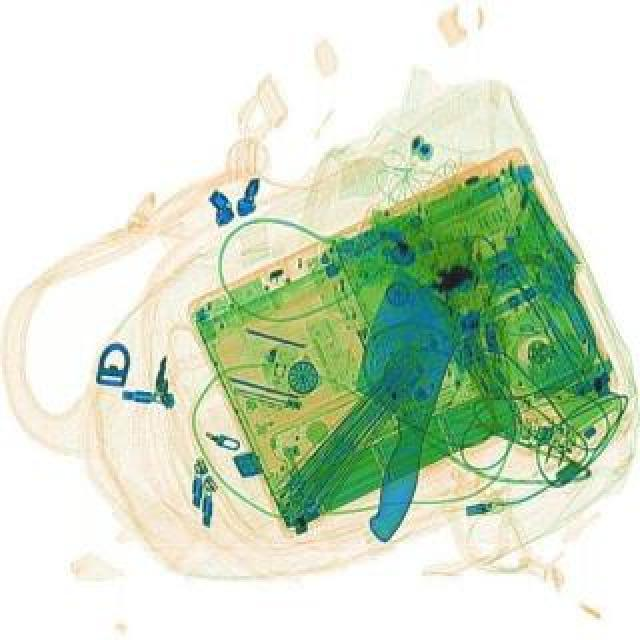knife: (306, 262, 480, 544)
